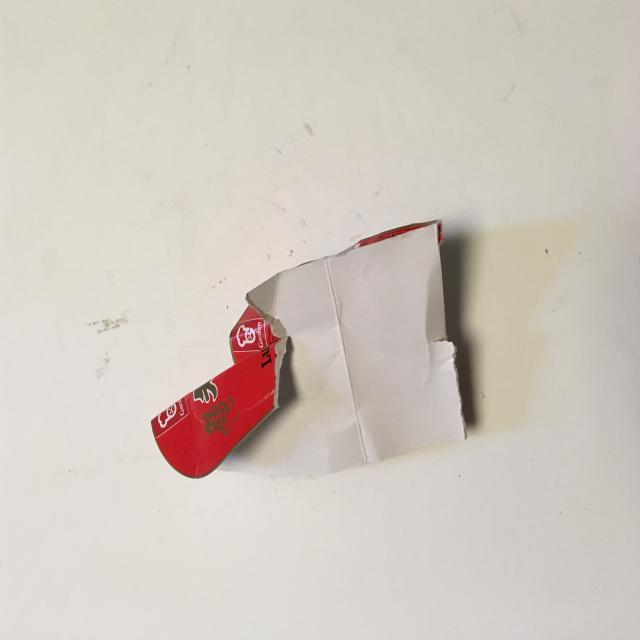paper: (131, 176, 522, 532)
